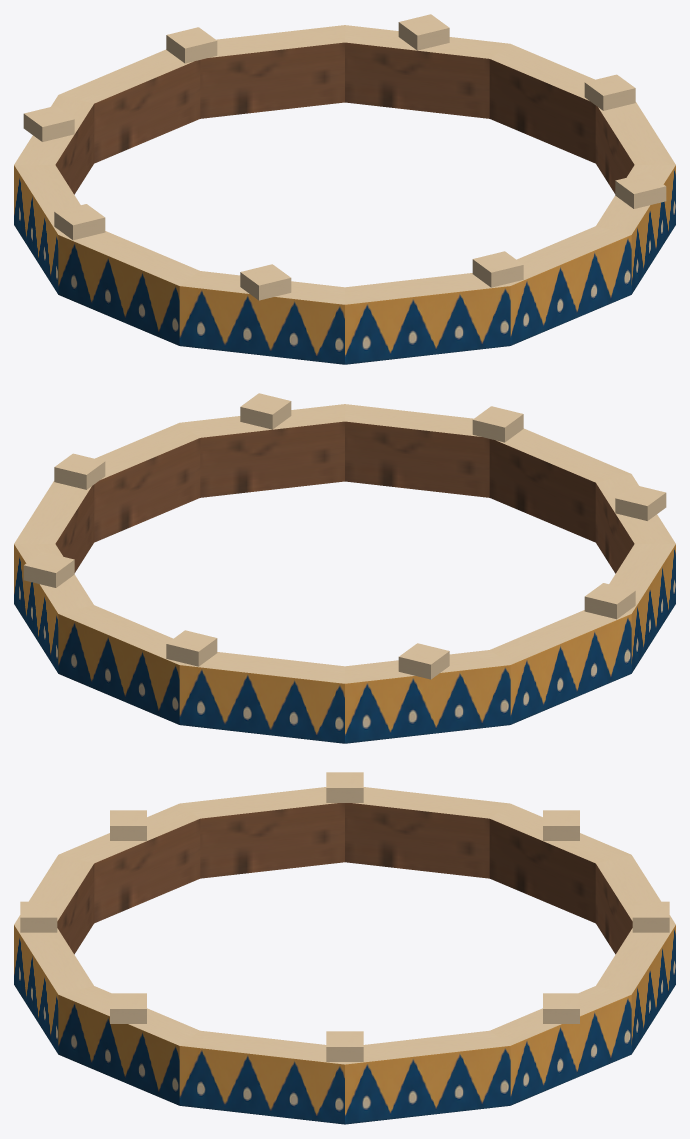
The model's file is rc_wa_tower_parapet_8m.glb.
The picture shows the model from 3 angles, top to bottom: view 1: azimuth 30°, elevation 25°; view 2: azimuth 150°, elevation 25°; view 3: azimuth 270°, elevation 25°; orthographic projection.
Visible parts, largest first — view 1: SM_RC_WA_TowerParapet_8m; view 2: SM_RC_WA_TowerParapet_8m; view 3: SM_RC_WA_TowerParapet_8m.
Part boxes in pixels (x1=…): SM_RC_WA_TowerParapet_8m: x1=14, y1=14, x2=675, y2=364; SM_RC_WA_TowerParapet_8m: x1=14, y1=393, x2=675, y2=743; SM_RC_WA_TowerParapet_8m: x1=14, y1=772, x2=675, y2=1124.
Size of the model in its own units: 8 by 1 by 8.
Materials: 1 (1 with a texture image).
